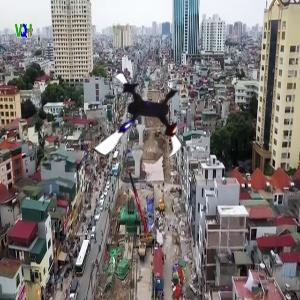drone: (85, 66, 194, 175)
